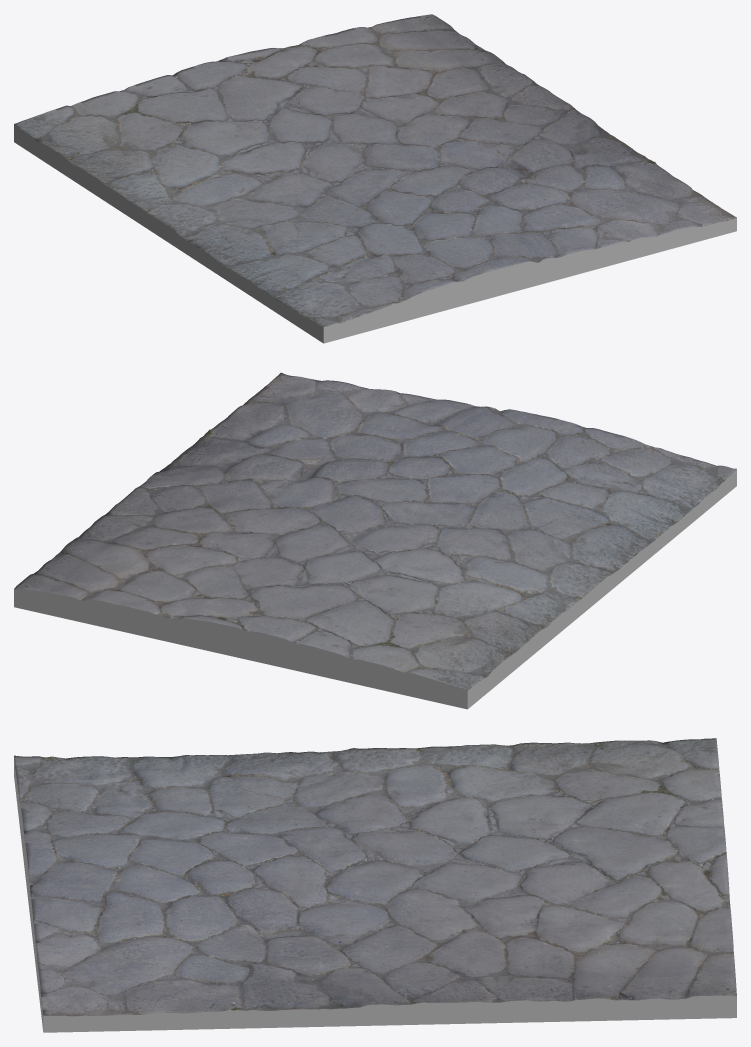
File: pavimento_pompeya_op.glb
3 renders of one model, top to bottom at view 1: azimuth 30°, elevation 25°; view 2: azimuth 150°, elevation 25°; view 3: azimuth 270°, elevation 25°, orthographic. The views are drawn at different scales.
Visible parts, largest first — view 1: Object_3, Object_2; view 2: Object_3, Object_2; view 3: Object_3, Object_2.
Boxes of the visible parts, x1,y1,x2,y2 form: Object_3: (14, 14, 736, 326); Object_2: (14, 124, 736, 343); Object_3: (14, 372, 736, 690); Object_2: (14, 469, 736, 709); Object_3: (14, 738, 736, 1016); Object_2: (14, 757, 736, 1032).
Bounding box in the file's own units: 10.94 × 0.673 × 12.28.
2 materials, 1 textured.
